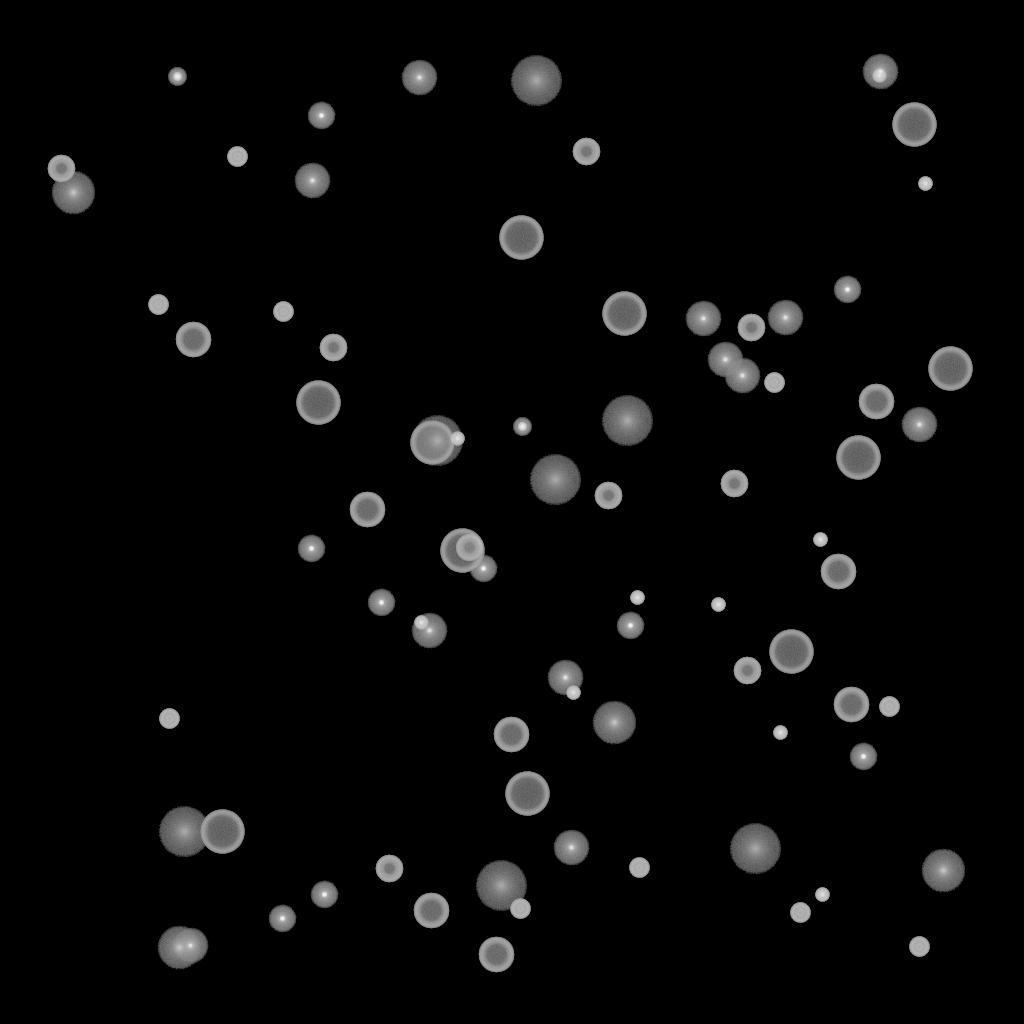depth:-10: (616, 612, 644, 640), (310, 881, 338, 909), (849, 743, 877, 771), (297, 535, 325, 563), (469, 555, 497, 583), (367, 589, 395, 617), (268, 905, 296, 933), (833, 276, 861, 304), (307, 102, 335, 130)
depth:-20: (513, 418, 531, 436), (168, 68, 186, 86)
depth:-30: (450, 432, 464, 446), (630, 591, 644, 605), (815, 888, 829, 902), (566, 686, 580, 700), (918, 177, 932, 191), (872, 69, 886, 83), (414, 616, 428, 630), (813, 533, 827, 547), (773, 726, 787, 740), (711, 598, 725, 612)
depth:-40: (227, 147, 247, 167), (764, 373, 784, 393), (159, 709, 179, 729), (909, 937, 929, 957), (629, 858, 649, 878), (148, 295, 168, 315), (510, 899, 530, 919), (879, 697, 899, 717), (790, 903, 810, 923), (273, 302, 293, 322)
depth:-50: (737, 314, 765, 342), (319, 334, 347, 362), (375, 855, 403, 883), (47, 155, 75, 183), (455, 534, 483, 562), (572, 138, 600, 166), (720, 470, 748, 498), (594, 482, 622, 510), (733, 657, 761, 685)
depth:-60: (833, 687, 869, 723), (858, 384, 894, 420), (175, 322, 211, 358), (349, 492, 385, 528), (413, 893, 449, 929), (493, 717, 529, 753), (478, 937, 514, 973), (820, 554, 856, 590)
depth:-70: (602, 292, 646, 336), (836, 436, 880, 480), (296, 381, 340, 425), (505, 772, 549, 816), (410, 421, 454, 465), (928, 347, 972, 391), (440, 529, 484, 573), (499, 216, 543, 260), (892, 103, 936, 147), (200, 810, 244, 854), (769, 630, 813, 674)
depth:0: (707, 342, 743, 378), (294, 163, 330, 199), (901, 407, 937, 443), (553, 830, 589, 866), (685, 301, 721, 337), (411, 613, 447, 649), (862, 54, 898, 90), (401, 60, 437, 96), (172, 928, 208, 964), (547, 660, 583, 696), (724, 358, 760, 394), (767, 300, 803, 336)
depth:10: (51, 171, 95, 215), (592, 701, 636, 745), (157, 926, 201, 970), (921, 849, 965, 893)
depth:20: (411, 416, 463, 466), (158, 807, 210, 857), (510, 56, 562, 106), (729, 824, 781, 874), (529, 455, 581, 505), (601, 396, 653, 446), (475, 861, 527, 911)
